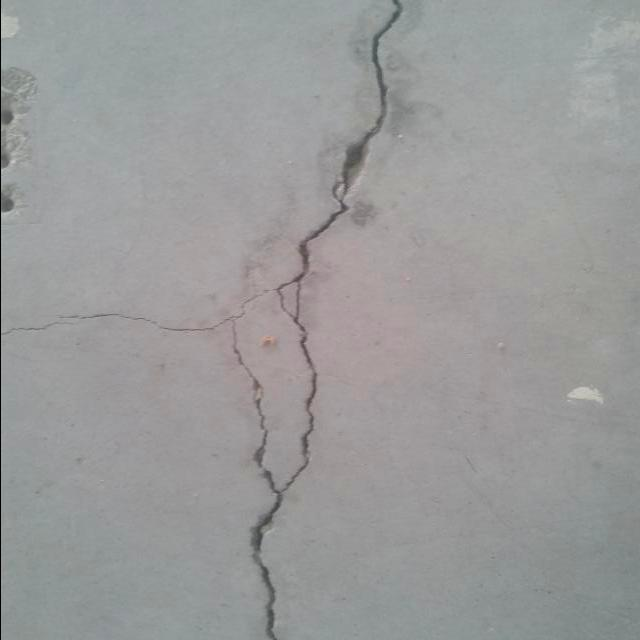SurfaceCrack: (206, 0, 445, 639)
